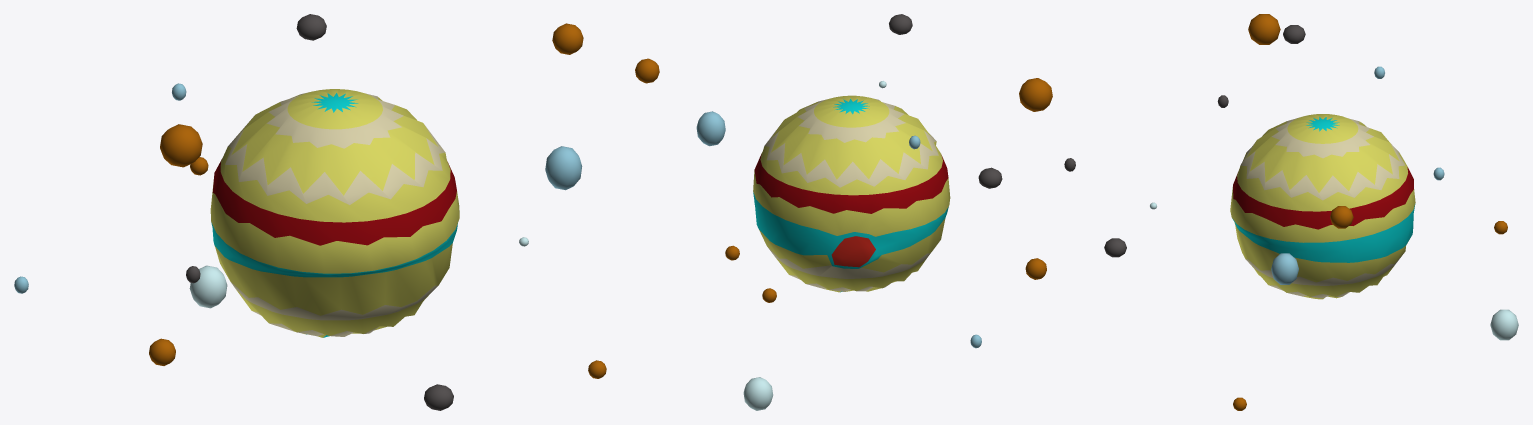
The model's file is Planet4.fbx.
3 renders of one model, left to right at view 1: azimuth 30°, elevation 25°; view 2: azimuth 150°, elevation 25°; view 3: azimuth 270°, elevation 25°, orthographic. The views are drawn at different scales.
Parts seen in each view (by area): view 1: Sphere; view 2: Sphere; view 3: Sphere.
Part boxes in pixels (x1=…): Sphere: x1=14, y1=14, x2=606, y2=410; Sphere: x1=635, y1=14, x2=1075, y2=410; Sphere: x1=1104, y1=14, x2=1518, y2=410.
Bounding box in the file's own units: 2128 × 1644 × 2056.
